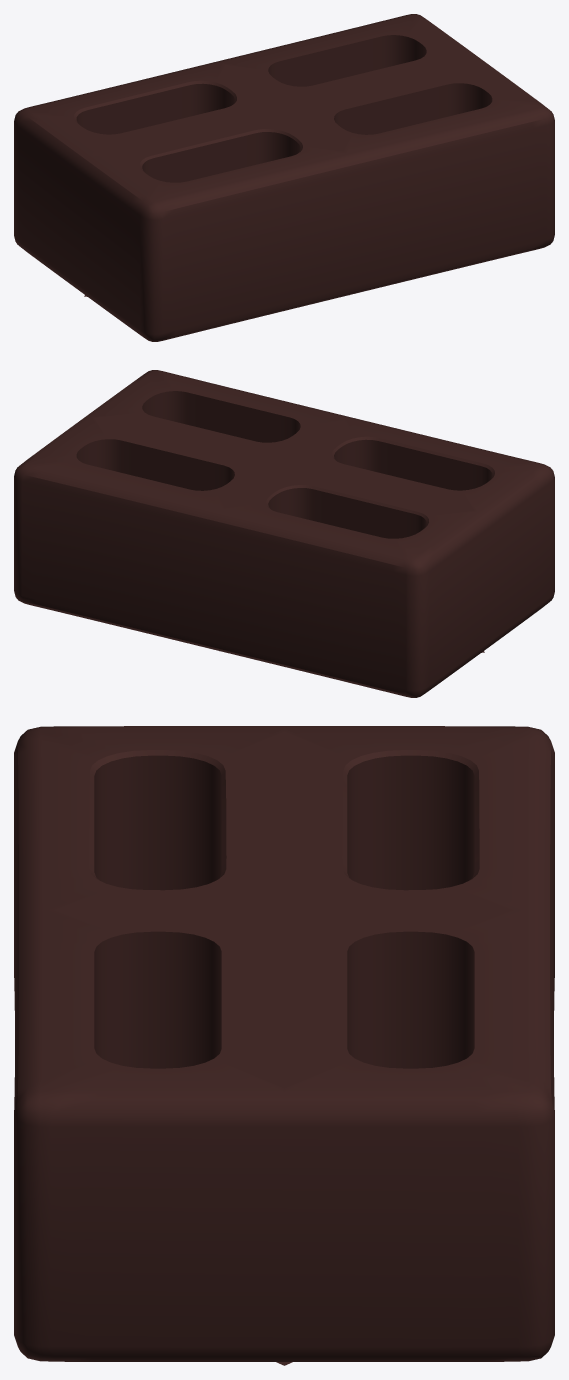
Rendered from Tuğla.fbx.
3 renders of one model, top to bottom at view 1: azimuth 30°, elevation 25°; view 2: azimuth 150°, elevation 25°; view 3: azimuth 270°, elevation 25°, orthographic. The views are drawn at different scales.
Visible parts, largest first — view 1: Cube.001; view 2: Cube.001; view 3: Cube.001.
Part boxes in pixels (<box>): Cube.001: <box>14,14,554,341</box>; Cube.001: <box>14,370,554,697</box>; Cube.001: <box>14,726,554,1365</box>.
Bounding box in the file's own units: 77.38 × 25.02 × 45.84.
